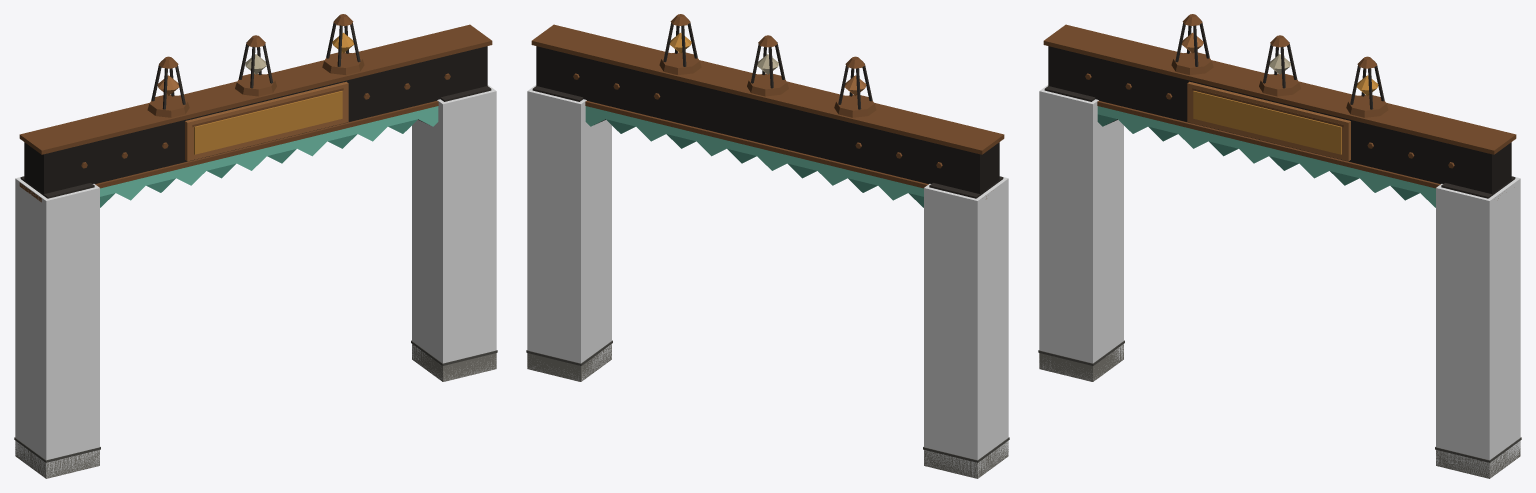
Rendered from camp_trial_arch.glb.
3 renders of one model, left to right at view 1: azimuth 30°, elevation 25°; view 2: azimuth 150°, elevation 25°; view 3: azimuth 330°, elevation 25°, orthographic.
Visible parts, largest first — view 1: camp_trial_arch-col-col, Body; view 2: camp_trial_arch-col-col, Body; view 3: camp_trial_arch-col-col, Body.
Boxes of the visible parts, x1,y1,x2,y2 form: camp_trial_arch-col-col: [15, 85, 496, 478]; Body: [14, 14, 497, 478]; camp_trial_arch-col-col: [527, 85, 1008, 478]; Body: [526, 14, 1009, 478]; camp_trial_arch-col-col: [1039, 85, 1520, 478]; Body: [1038, 14, 1521, 478].
Bounding box in the file's own units: 13.44 × 10.68 × 1.64.
